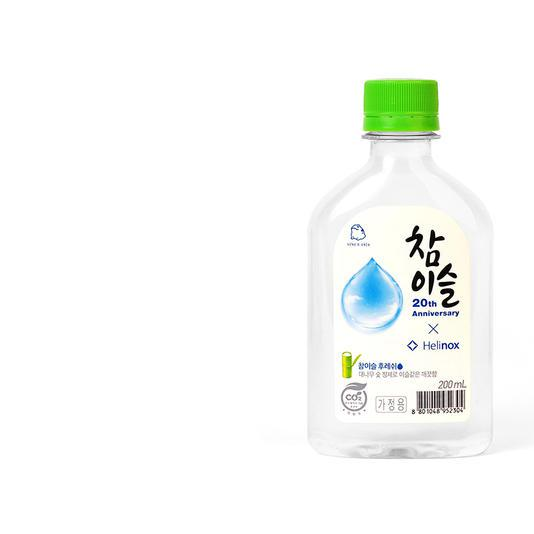soju: (302, 72, 503, 461)
